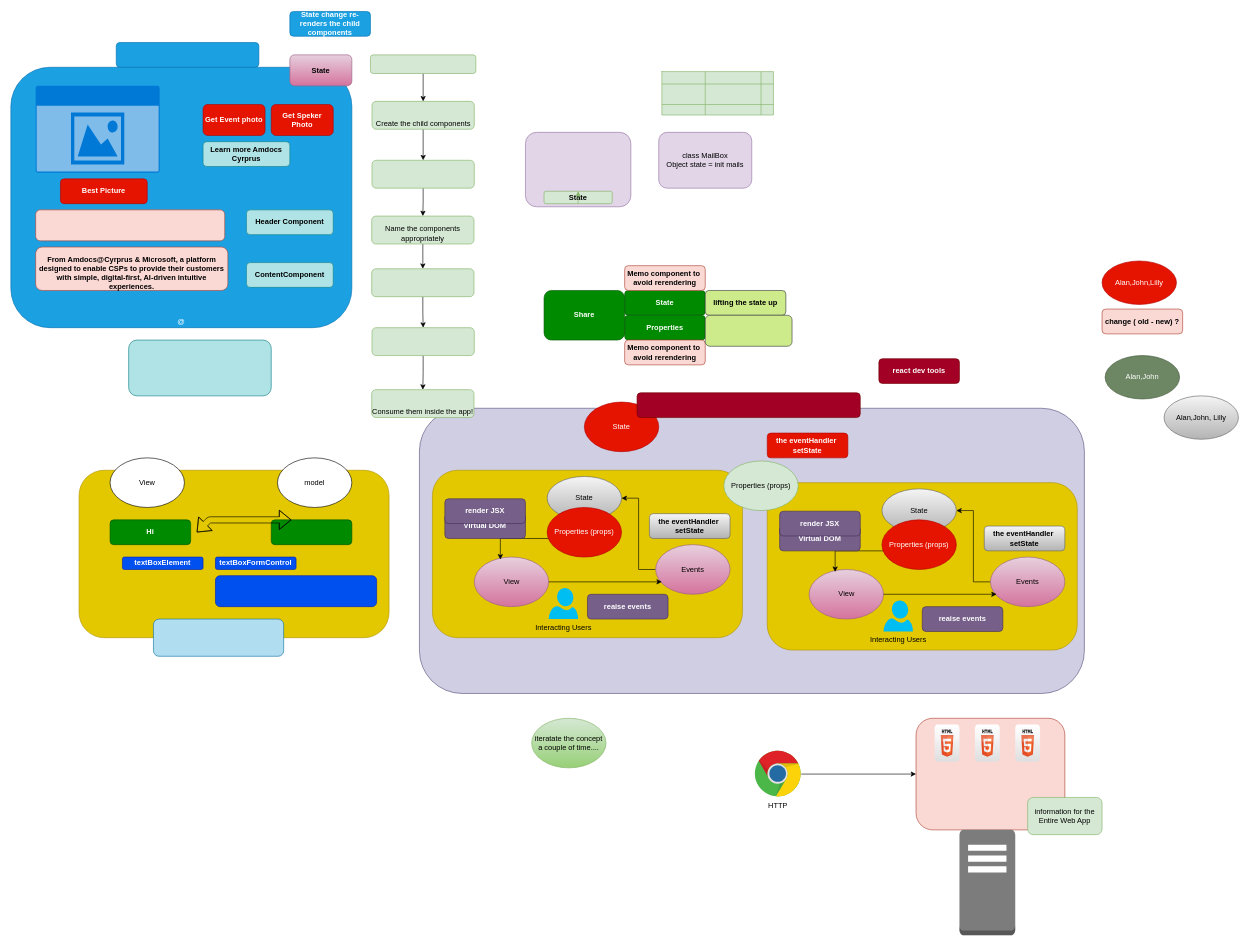
The diagram is 1249 pixels wide and 946 high, and some of its shapes have lost their labels. The shapes that lost their labels are listed below. From the top down, each one's box as (x1, y1, x2, y2) in pixels, then its label:
(116, 42, 259, 67): Amdocs Cyprus Dashboard
(370, 54, 476, 73): Lab Create the Card Component.
(35, 86, 159, 172): Amdocs @ Cyprus
(371, 160, 474, 188): Modularize the Profie component
(525, 132, 631, 207): class MailBox
(35, 209, 225, 241): AMDOCS@CYPRUS CUSTOMER ENGAGEMENT PLATFORM .
(371, 268, 474, 297): Create the named and defualt components
(371, 327, 474, 356): Import & export components
(705, 315, 792, 346): sending information down through properties
(128, 339, 271, 396): US01 : We need a dashboard to showcase our knowledge on React components.
(636, 392, 860, 418): Parent Component
(271, 519, 352, 545): textBox.value = "Welcome"
(215, 575, 377, 607): textBoxFormControl.value = "Hi"
(153, 618, 284, 656): Framework (Component, UI, Model)
(915, 718, 1065, 830): Web App / SPA
